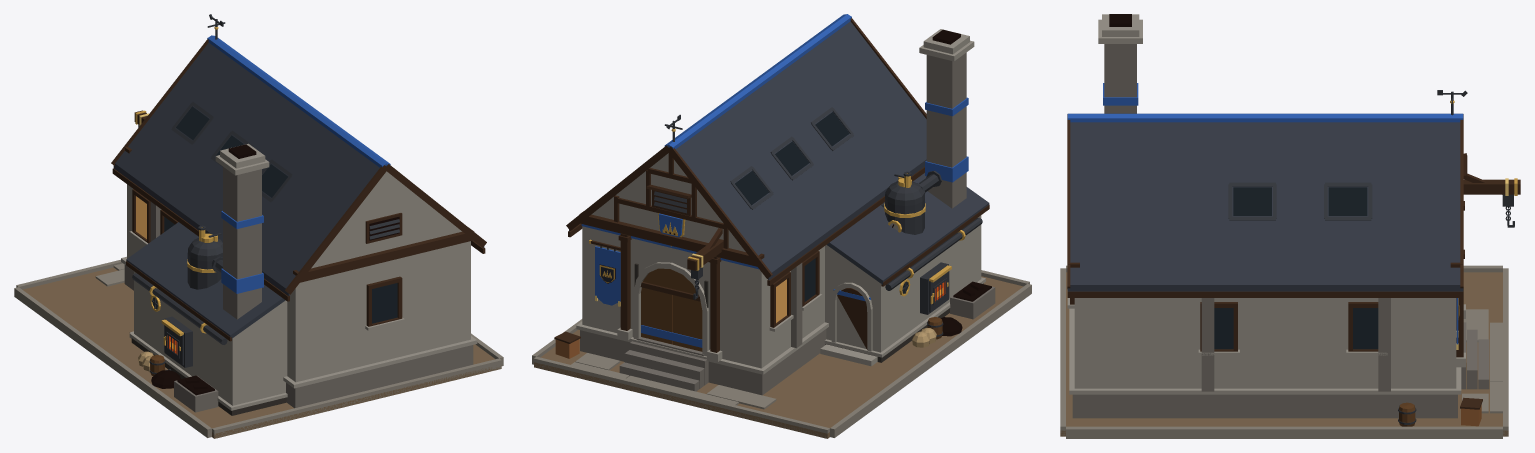
The model's file is 蒸汽车坊_手游_中.glb.
The picture shows the model from 3 angles, left to right: view 1: azimuth 30°, elevation 25°; view 2: azimuth 150°, elevation 25°; view 3: azimuth 270°, elevation 25°; orthographic projection. The views are drawn at different scales.
Visible parts, largest first — view 1: SW-主体, SW-自发光, SW-team; view 2: SW-主体, SW-team, SW-自发光; view 3: SW-主体, SW-自发光, SW-team.
Boxes of the visible parts, x1,y1,x2,y2 form: SW-主体: [14, 14, 503, 438]; SW-自发光: [136, 106, 399, 395]; SW-team: [207, 35, 390, 293]; SW-主体: [532, 18, 1031, 438]; SW-team: [581, 14, 968, 347]; SW-自发光: [599, 29, 991, 336]; SW-主体: [1060, 14, 1520, 438]; SW-自发光: [1109, 14, 1458, 349]; SW-team: [1067, 83, 1463, 344].
Bounding box in the file's own units: 12.16 × 10.04 × 14.48.
4 materials, 2 textured.
